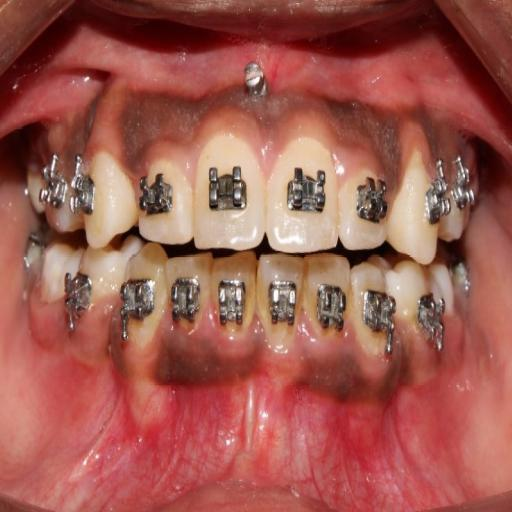correct_brace: (283, 155, 327, 221), (205, 162, 248, 224), (124, 278, 156, 330), (140, 169, 174, 217), (357, 172, 386, 228), (170, 274, 202, 324), (269, 280, 298, 332), (318, 280, 345, 332), (220, 276, 248, 326)
incorrect_brace: (136, 154, 191, 242), (342, 158, 389, 248), (168, 251, 212, 341), (306, 256, 351, 344)
